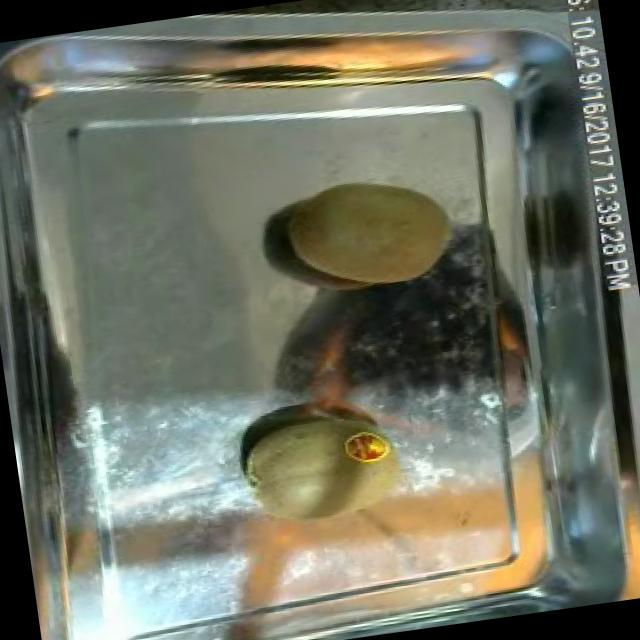Fruit: (269, 160, 470, 307)
